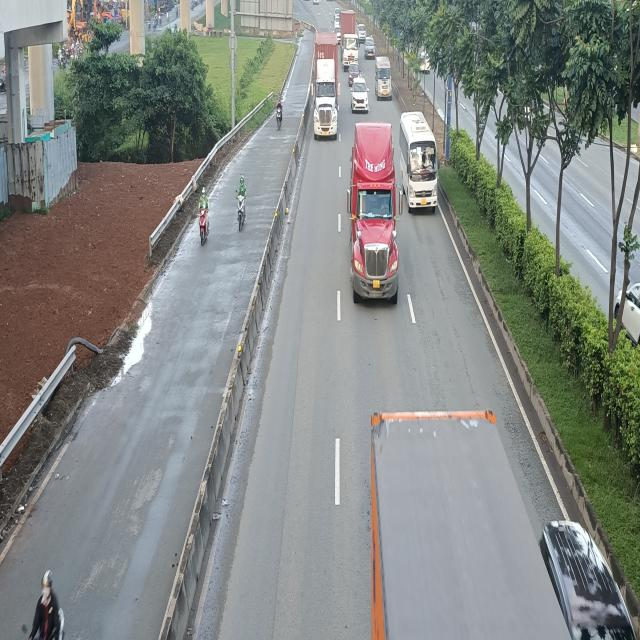car: (351, 78, 369, 115)
coach: (398, 111, 442, 213)
container: (364, 409, 569, 640), (349, 123, 401, 304), (313, 31, 341, 139), (342, 11, 360, 65)
van: (375, 57, 393, 102)
